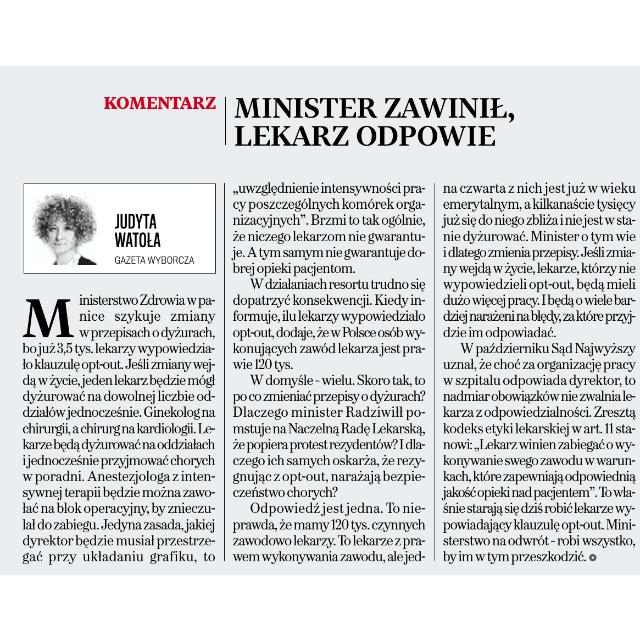author: (112, 208, 166, 250)
body: (440, 177, 640, 567), (231, 177, 429, 567), (18, 288, 220, 566)
title: (91, 83, 526, 153)
